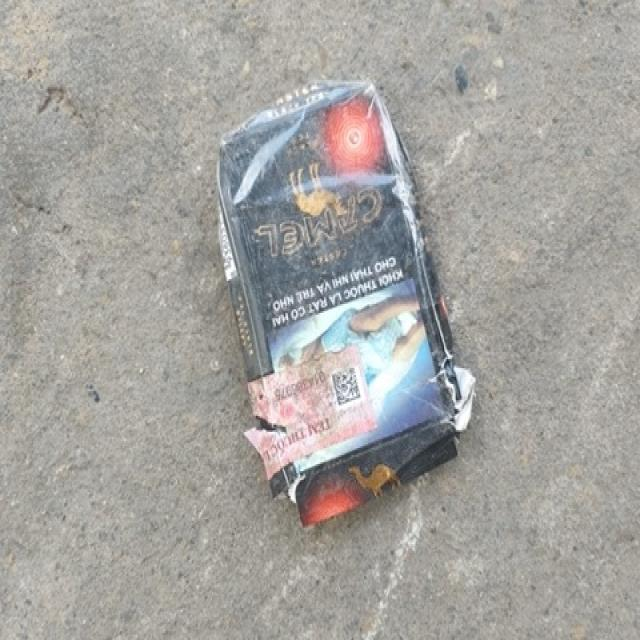PaperCardboard: (216, 76, 479, 530)
